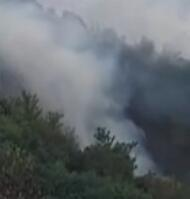yanwu: (1, 1, 167, 176)
